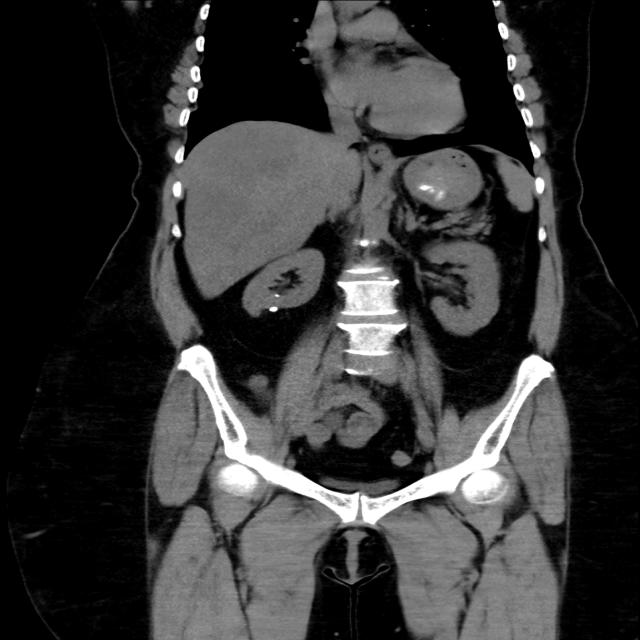kidneystone: (268, 306, 278, 312)
